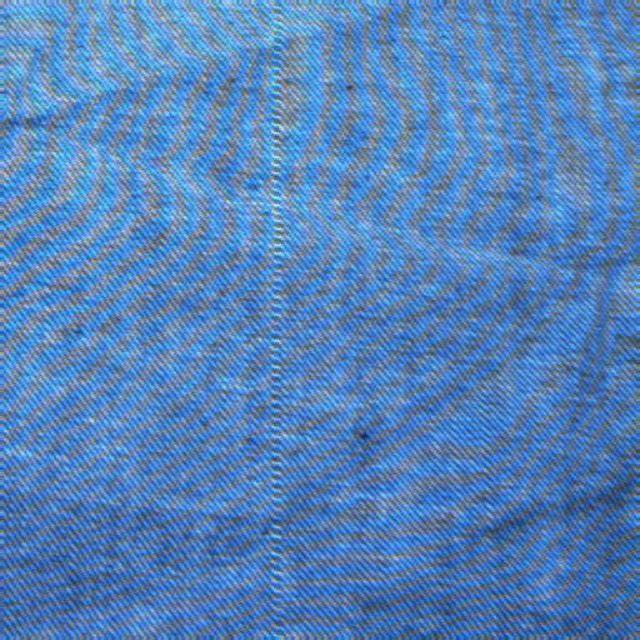defect: (269, 15, 278, 640)
